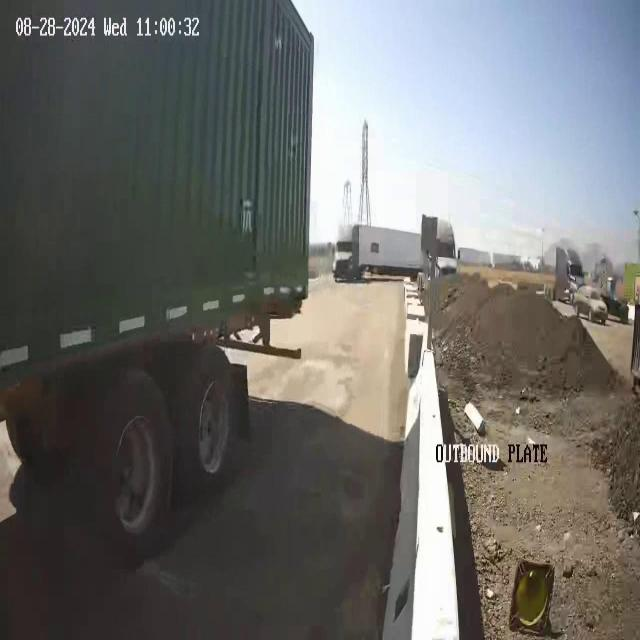TRUCK_OUT: (1, 1, 316, 556)
